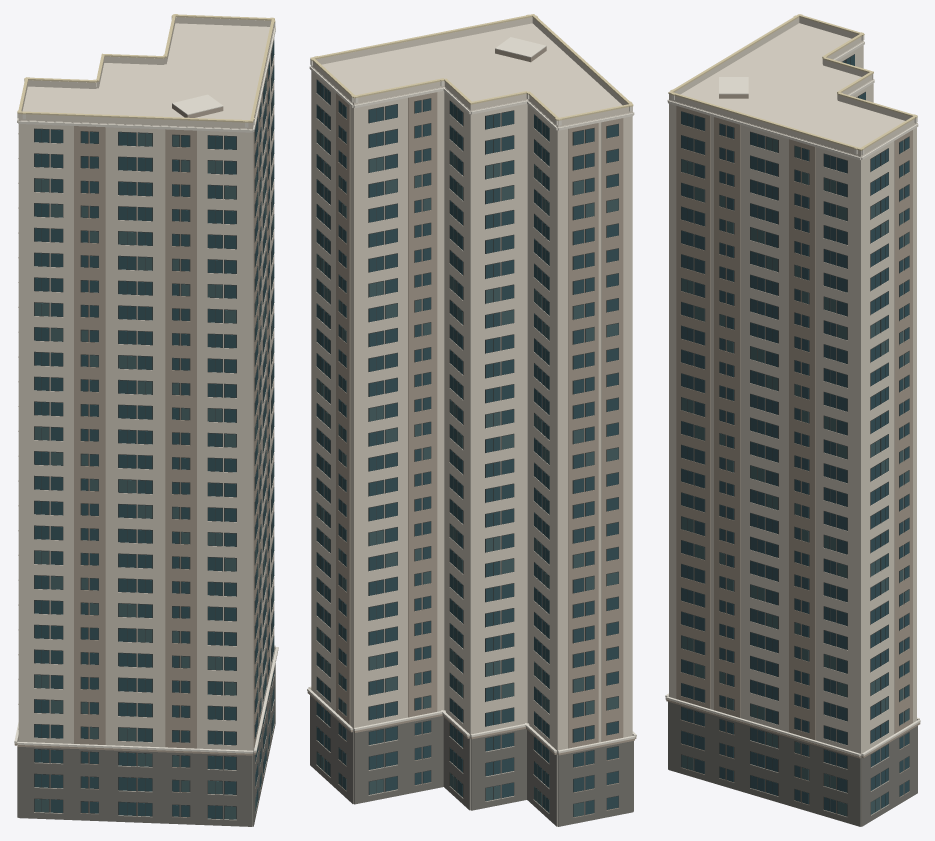
The model's file is bespoke-raemian-prestige-101.glb.
3 views of the same model, side by side, from view 1: azimuth 30°, elevation 25°; view 2: azimuth 150°, elevation 25°; view 3: azimuth 270°, elevation 25° (orthographic). The views are drawn at different scales.
Parts seen in each view (by area): view 1: Prestige_warm_ivory_rendered_wall006, Prestige_recessed_blue_green_window006, Prestige_wide_taupe_pilasters006, Prestige_dark_bronze_thin_window_frame006, Prestige_dark_brown_grey_stone_base006, Prestige_muted_green_window_pair006, Prestige_pale_limestone_band006, Prestige_cream_gold_crown_coping006; view 2: Prestige_warm_ivory_rendered_wall006, Prestige_recessed_blue_green_window006, Prestige_wide_taupe_pilasters006, Prestige_dark_bronze_thin_window_frame006, Prestige_dark_brown_grey_stone_base006, Prestige_muted_green_window_pair006, Prestige_pale_limestone_band006, Prestige_cream_gold_crown_coping006; view 3: Prestige_warm_ivory_rendered_wall006, Prestige_wide_taupe_pilasters006, Prestige_recessed_blue_green_window006, Prestige_dark_bronze_thin_window_frame006, Prestige_dark_brown_grey_stone_base006, Prestige_muted_green_window_pair006, Prestige_pale_limestone_band006, Prestige_cream_gold_crown_coping006.
Part boxes in pixels (x1,y1,x2,y2): Prestige_warm_ivory_rendered_wall006: [18, 17, 274, 825]; Prestige_recessed_blue_green_window006: [34, 41, 274, 818]; Prestige_wide_taupe_pilasters006: [14, 59, 277, 817]; Prestige_dark_bronze_thin_window_frame006: [34, 40, 274, 819]; Prestige_dark_brown_grey_stone_base006: [17, 649, 275, 826]; Prestige_muted_green_window_pair006: [34, 67, 274, 819]; Prestige_pale_limestone_band006: [14, 17, 278, 753]; Prestige_cream_gold_crown_coping006: [17, 14, 275, 122]; Prestige_warm_ivory_rendered_wall006: [311, 17, 632, 826]; Prestige_recessed_blue_green_window006: [316, 80, 618, 814]; Prestige_wide_taupe_pilasters006: [307, 46, 636, 817]; Prestige_dark_bronze_thin_window_frame006: [316, 79, 618, 817]; Prestige_dark_brown_grey_stone_base006: [310, 695, 633, 826]; Prestige_muted_green_window_pair006: [316, 130, 618, 817]; Prestige_pale_limestone_band006: [307, 37, 636, 753]; Prestige_cream_gold_crown_coping006: [310, 14, 633, 120]; Prestige_warm_ivory_rendered_wall006: [669, 17, 916, 826]; Prestige_wide_taupe_pilasters006: [665, 94, 920, 805]; Prestige_recessed_blue_green_window006: [681, 55, 909, 812]; Prestige_dark_bronze_thin_window_frame006: [681, 54, 909, 816]; Prestige_dark_brown_grey_stone_base006: [668, 701, 917, 826]; Prestige_muted_green_window_pair006: [681, 137, 909, 816]; Prestige_pale_limestone_band006: [665, 35, 920, 756]; Prestige_cream_gold_crown_coping006: [668, 14, 917, 150].
Size of the model in its own units: 34.7 by 79.3 by 27.11.
